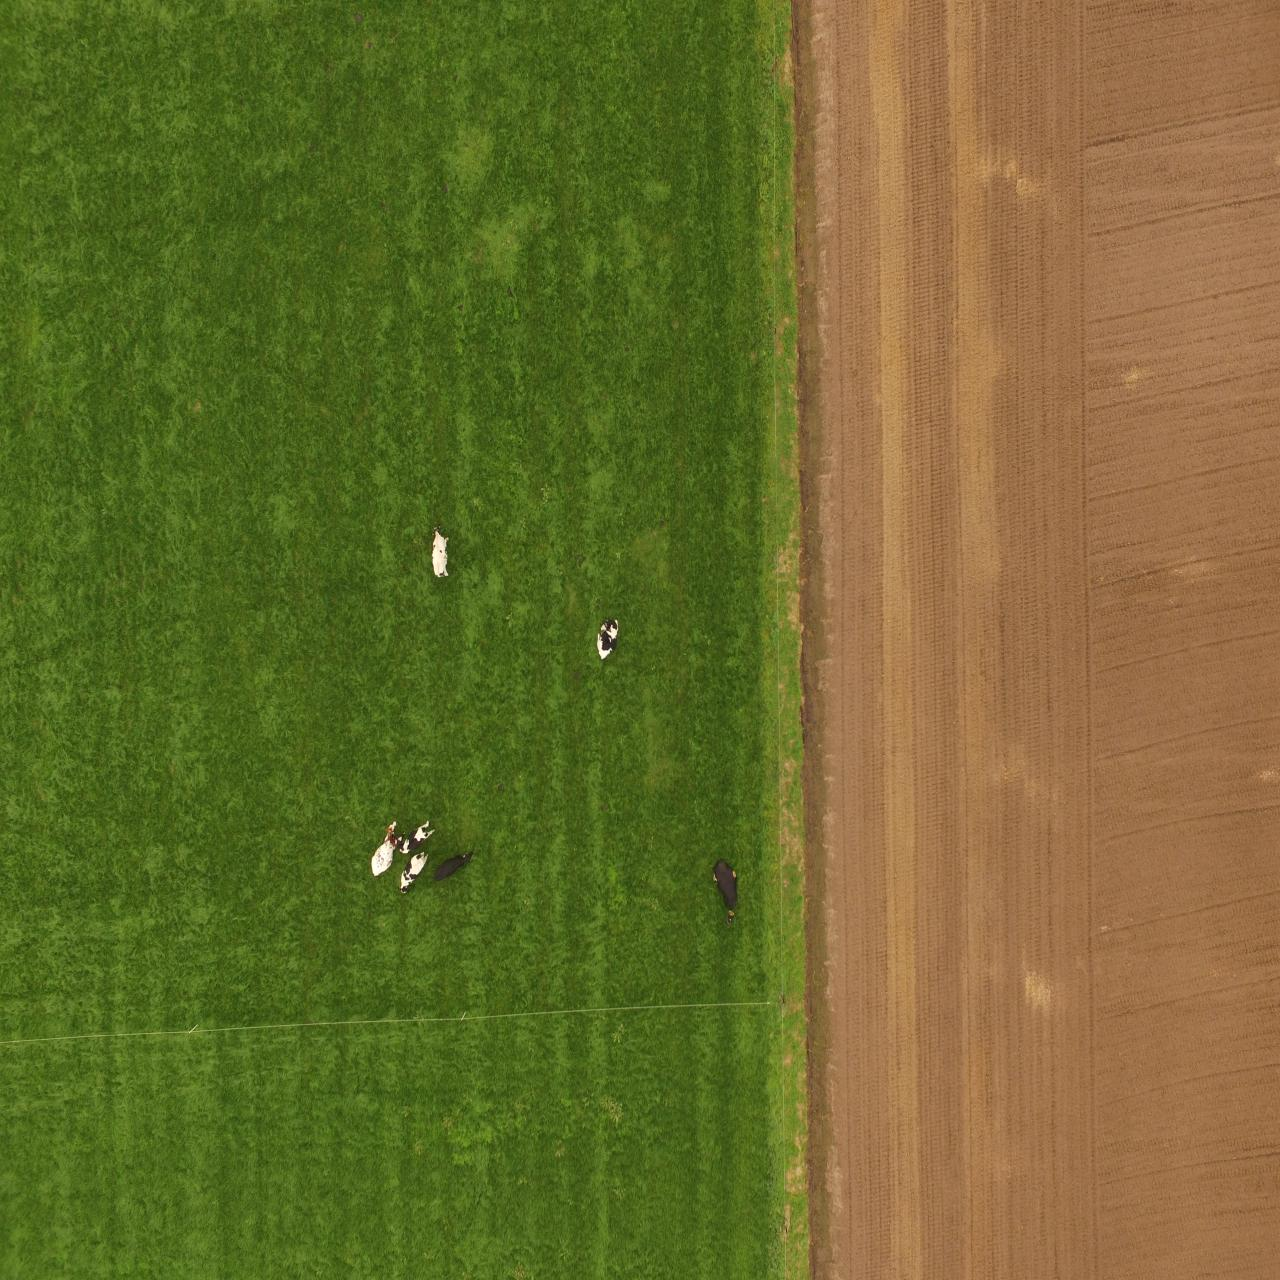cow: (712, 856, 743, 931), (366, 815, 400, 883), (399, 846, 431, 901), (425, 525, 452, 586), (438, 845, 476, 886), (594, 615, 620, 673), (402, 823, 435, 855)
